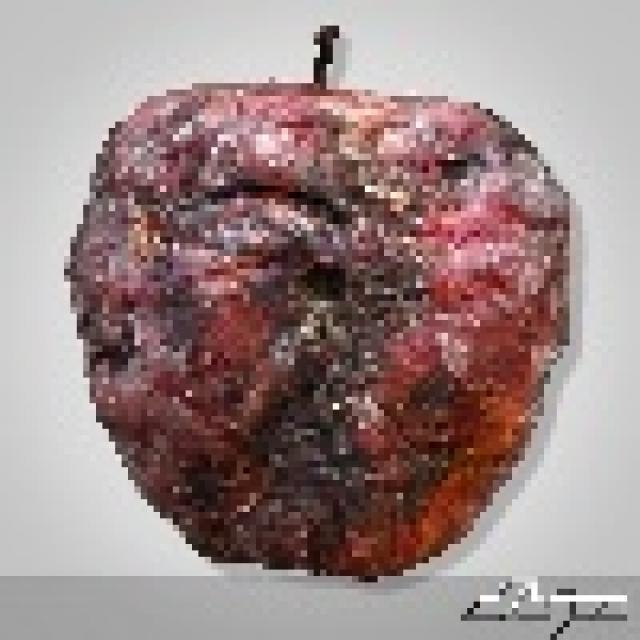Apple: (67, 74, 573, 588)
